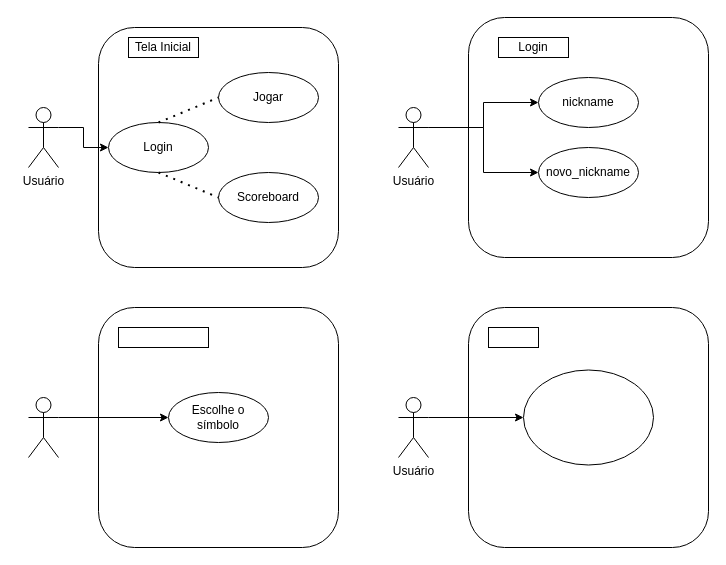
Some shapes in this 726 by 565 pixel diagram are drawn without their labels. Each missing label, with the box of its shape:
Escolhe uma posição para marcar o símbolo durante seu turno: (522, 369, 654, 465)
Início do Jogo: (118, 326, 208, 348)
Jogador 1: (28, 396, 58, 458)
Jogo: (488, 326, 538, 348)
